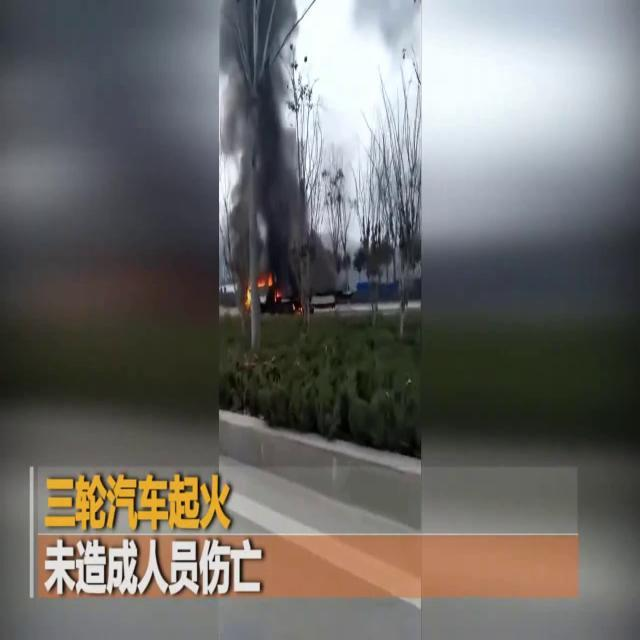Fire: (246, 269, 278, 305)
Smoke: (219, 0, 308, 292)
